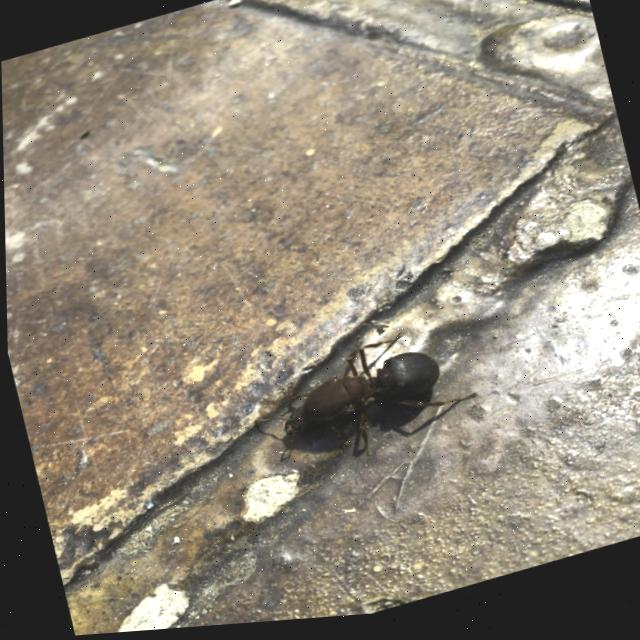Alive-Female-Dealate: (241, 320, 483, 489)
